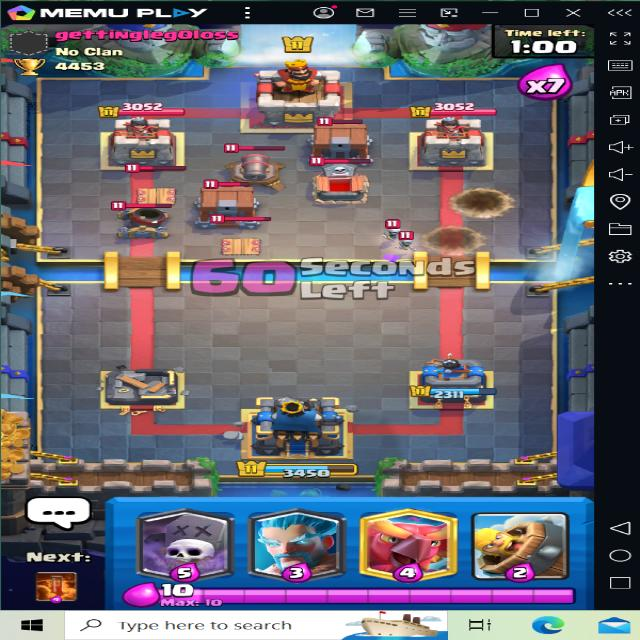Cannon: (216, 139, 298, 194)
Goblincage: (181, 178, 268, 231), (300, 113, 377, 162)
Mortar: (106, 195, 174, 243)
Skeleton: (381, 222, 406, 244), (394, 231, 417, 254)
Teslahidden: (123, 156, 187, 208), (209, 212, 277, 256)
Tombstone: (308, 153, 376, 200)
